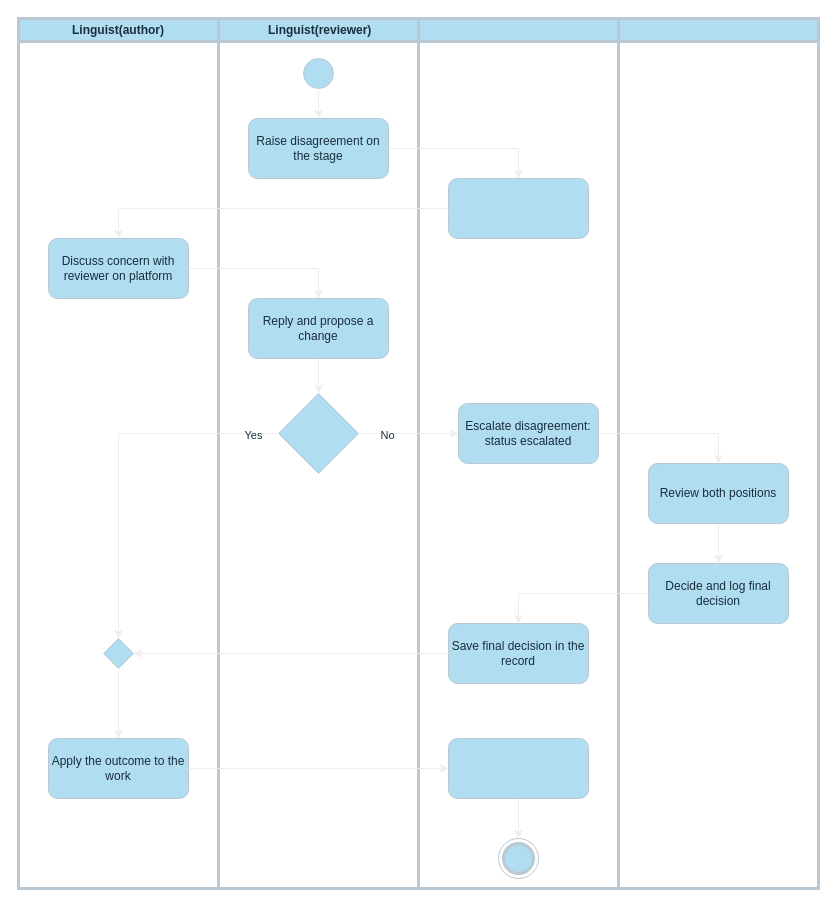
Image size: 837x907. Some labels were removed from this diagram. Each missing label, with the box of its shape:
Agree?: (278, 392, 358, 474)
Create disagreement record: In discussion: (448, 178, 588, 238)
Mark disagreement resolved and close: (448, 738, 588, 798)
Senior Linguist: (616, 16, 820, 890)
System: (416, 16, 620, 890)
